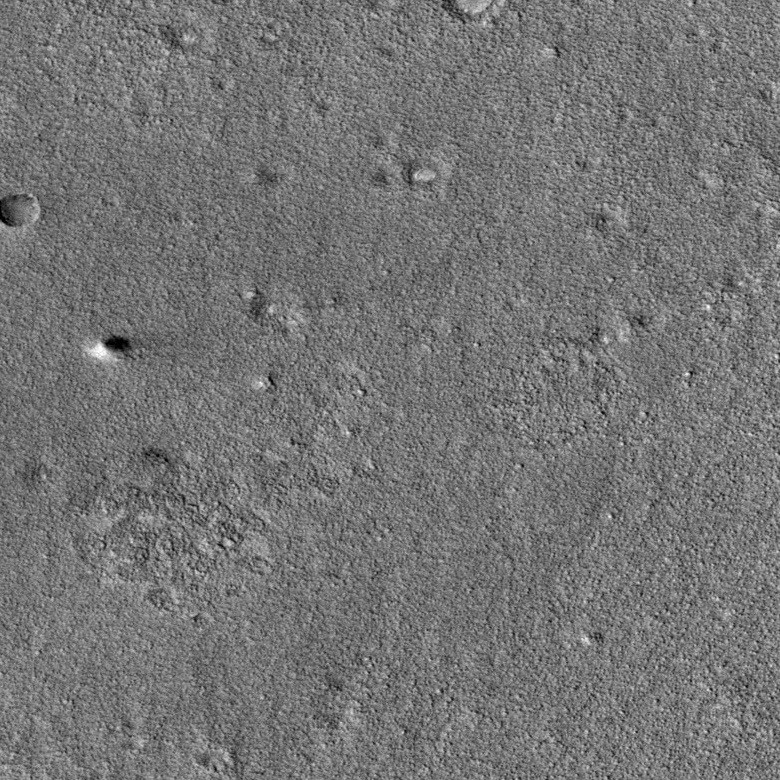dust_devil: (86, 334, 136, 364)
